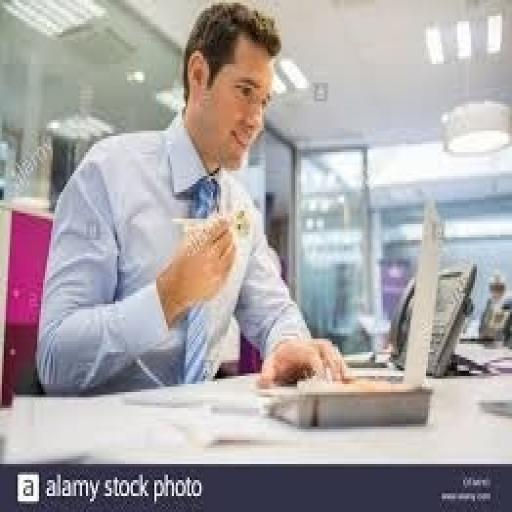eating: (33, 0, 355, 397)
